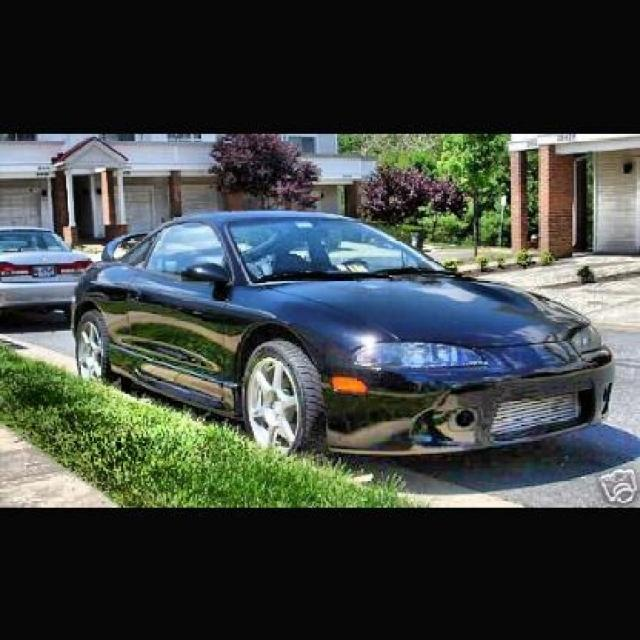black: (74, 208, 614, 470)
